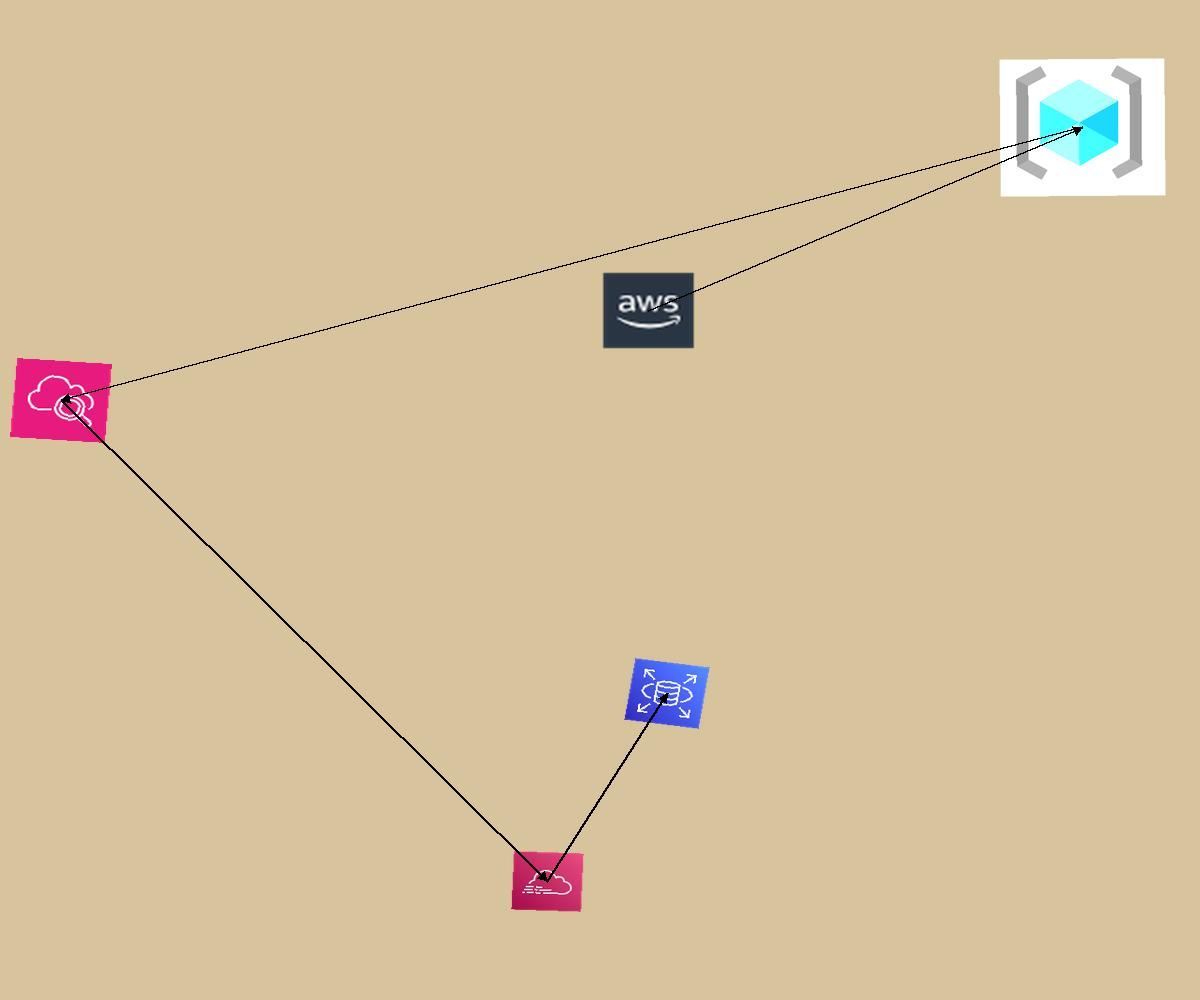AWS-Cloud-logo: (601, 271, 696, 350)
AWS-CloudTrail: (511, 851, 584, 912)
AWS-CloudWatch: (10, 358, 112, 443)
AWS-RDS: (624, 658, 710, 729)
Azure_resource_group: (999, 58, 1166, 197)
